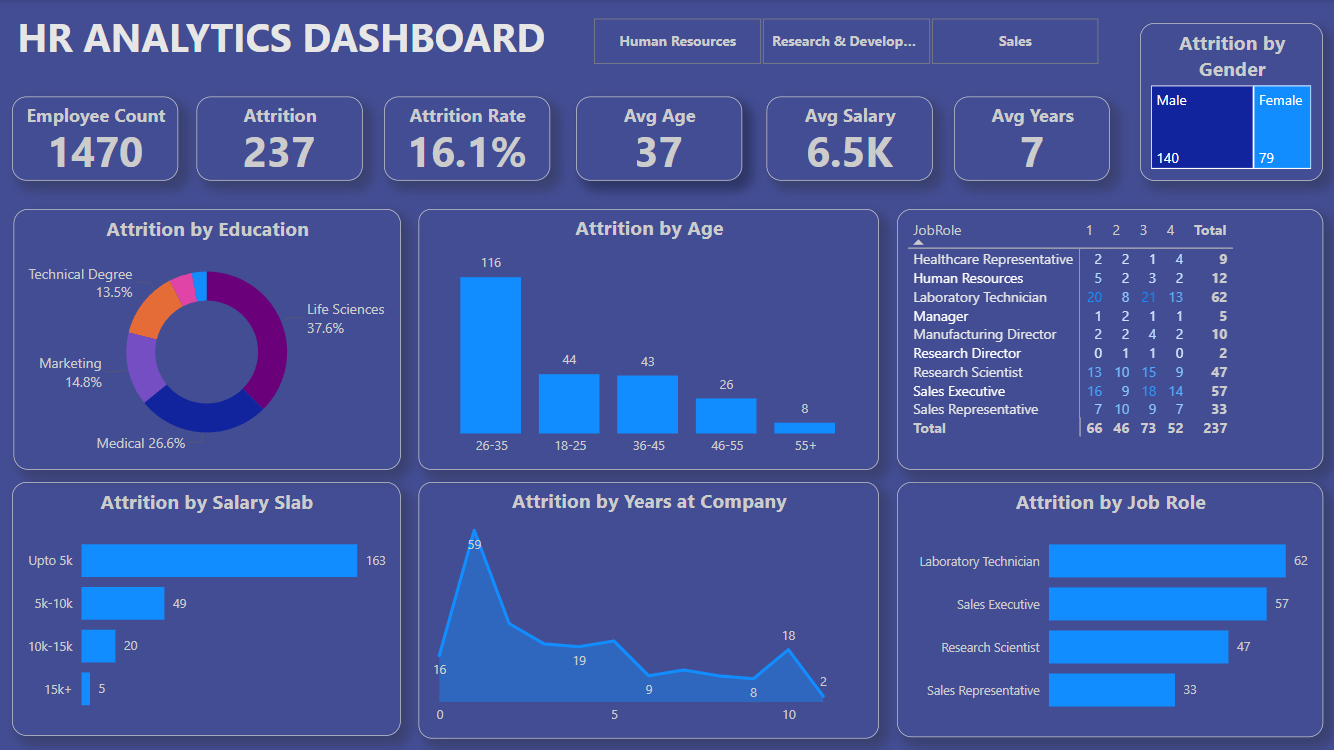

This screenshot's page, from the dashboard's own definition file:
{"tool":"powerbi","page":{"name":"Page 1","canvas":[1280,720],"ordinal":0},"visuals":[{"type":"card","title":"Employee Count","fields":{"Values":["CountNonNull(HR_Analytics.EmpID)"]},"box":[11.5,93.5,159.6,80.5],"z":0},{"type":"card","title":"Attrition","fields":{"Values":["Sum(HR_Analytics.AttritionCount)"]},"box":[188.4,93.5,159,80.5],"z":1000},{"type":"card","title":"Attrition Rate","fields":{"Values":["HR_Analytics.AttritionRate"]},"box":[368.2,93.5,159,80.5],"z":2000},{"type":"card","title":"Avg Age","fields":{"Values":["Avg(HR_Analytics.Age)"]},"box":[552.2,93.5,159,80.5],"z":3000},{"type":"card","title":"Avg Salary","fields":{"Values":["Avg(HR_Analytics.MonthlyIncome)"]},"box":[734.9,93.5,159,80.5],"z":4000},{"type":"card","title":"Avg Years","fields":{"Values":["Avg(HR_Analytics.YearsAtCompany)"]},"box":[914.6,93.5,149.6,80.5],"z":5000},{"type":"donutChart","title":"Attrition by Education","fields":{"Y":["Sum(HR_Analytics.AttritionCount)"],"Category":["HR_Analytics.EducationField"]},"box":[12.9,201.3,371,250.2],"z":6000},{"type":"columnChart","title":"Attrition by Age","fields":{"Y":["Sum(HR_Analytics.AttritionCount)"],"Category":["HR_Analytics.AgeGroup"]},"box":[401.2,201.3,441.5,250.2],"z":7000},{"type":"barChart","title":"Attrition by Salary Slab","fields":{"Y":["Sum(HR_Analytics.AttritionCount)"],"Category":["HR_Analytics.SalarySlab"]},"box":[11.5,463.1,372.5,243],"z":8000},{"type":"barChart","title":"Attrition by Job Role","fields":{"Category":["HR_Analytics.JobRole"],"Y":["Sum(HR_Analytics.AttritionCount)"]},"box":[860,463.1,408.4,244.5],"z":9000},{"type":"areaChart","title":"Attrition by Years at Company","fields":{"Y":["Sum(HR_Analytics.AttritionCount)"],"Category":["HR_Analytics.YearsAtCompany"]},"box":[401.2,463.1,441.5,245.9],"z":10000},{"type":"pivotTable","fields":{"Rows":["HR_Analytics.JobRole"],"Columns":["HR_Analytics.JobSatisfaction"],"Values":["Sum(HR_Analytics.AttritionCount)"]},"box":[860,201.3,408.4,250.2],"z":11000},{"type":"treemap","title":"Attrition by Gender","fields":{"Group":["HR_Analytics.Gender"],"Values":["Sum(HR_Analytics.AttritionCount)"]},"box":[1093,23,175.4,151],"z":12000},{"type":"slicer","fields":{"Values":["HR_Analytics.Department"]},"box":[543.6,11.5,533.5,57.5],"z":13000},{"type":"textbox","box":[11.5,5.8,555.1,69],"z":14000}]}

Visuals, with their boxes in screenshot pixels (x1, y1, x2, y2), scaled from the page's 1280x720 canvas onto the 1334x750 screenshot:
"Employee Count" card: (12, 97, 178, 181)
"Attrition" card: (196, 97, 362, 181)
"Attrition Rate" card: (384, 97, 549, 181)
"Avg Age" card: (575, 97, 741, 181)
"Avg Salary" card: (766, 97, 932, 181)
"Avg Years" card: (953, 97, 1109, 181)
"Attrition by Education" donutChart: (13, 210, 400, 470)
"Attrition by Age" columnChart: (418, 210, 878, 470)
"Attrition by Salary Slab" barChart: (12, 482, 400, 736)
"Attrition by Job Role" barChart: (896, 482, 1322, 737)
"Attrition by Years at Company" areaChart: (418, 482, 878, 739)
pivotTable - HR_Analytics.JobRole x HR_Analytics.JobSatisfaction: (896, 210, 1322, 470)
"Attrition by Gender" treemap: (1139, 24, 1322, 181)
slicer - HR_Analytics.Department: (567, 12, 1123, 72)
textbox: (12, 6, 591, 78)
